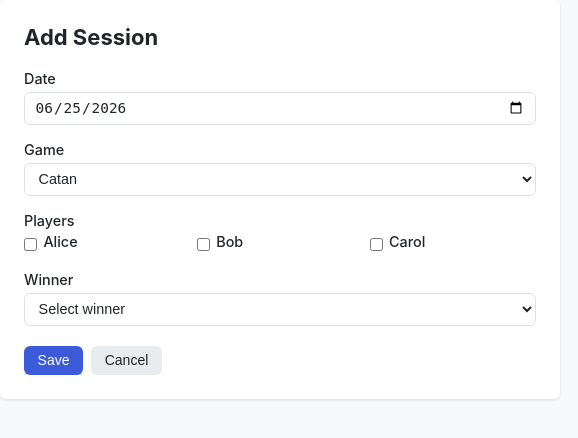
Test: SessionForm › shows validation error when no winner selected
Click the checkbox labelled "Alice". click: coordinates (30, 244)
box: [24,238,37,251]
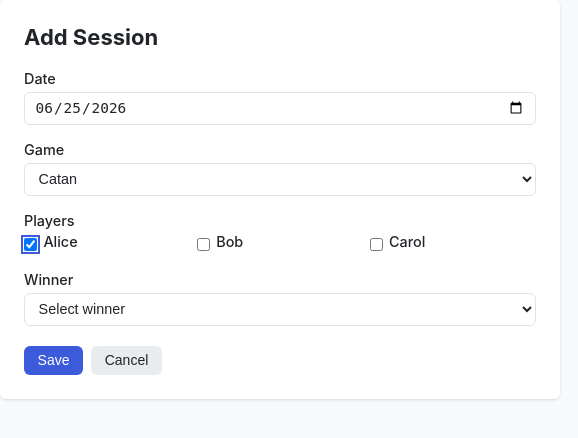
Click the button "Save". click: coordinates (54, 360)
box: [24,346,83,374]
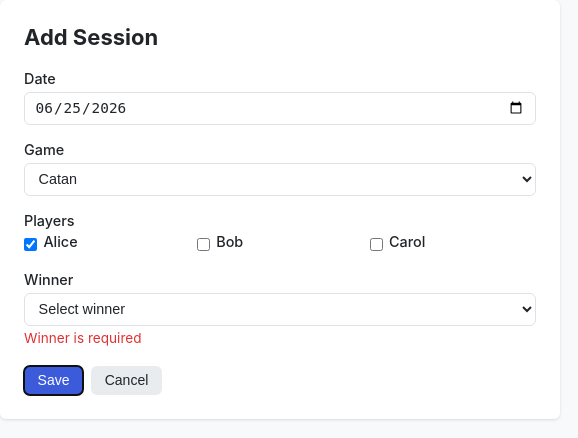
Now the text "Winner is required" is shown, box [24,330,142,346]
